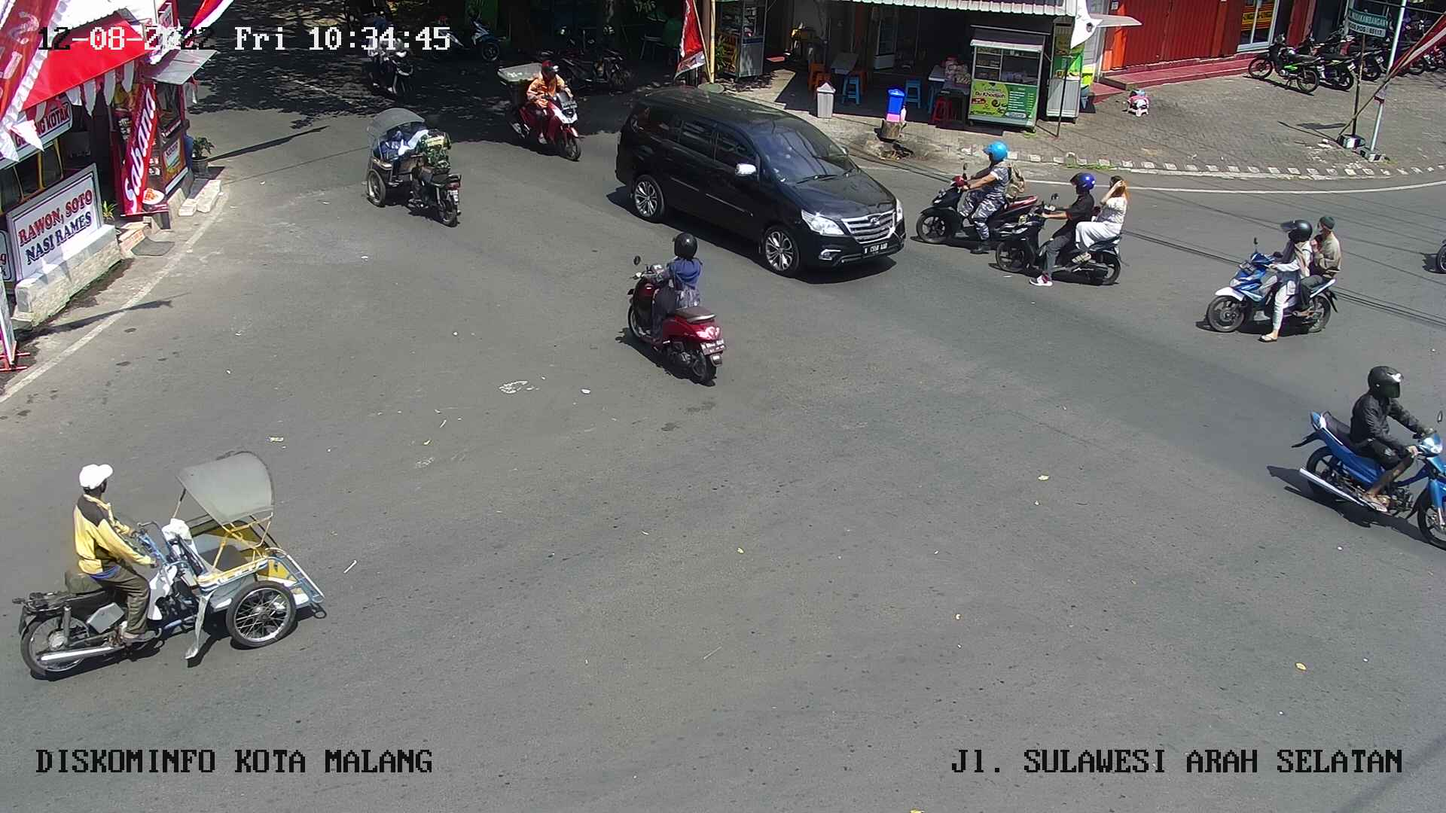with_helmet: (1269, 360, 1446, 548), (623, 231, 728, 391), (909, 136, 1035, 251), (502, 55, 587, 163)
without_helmet: (3, 452, 336, 695), (1200, 215, 1353, 343), (994, 169, 1138, 291), (357, 106, 471, 237)
